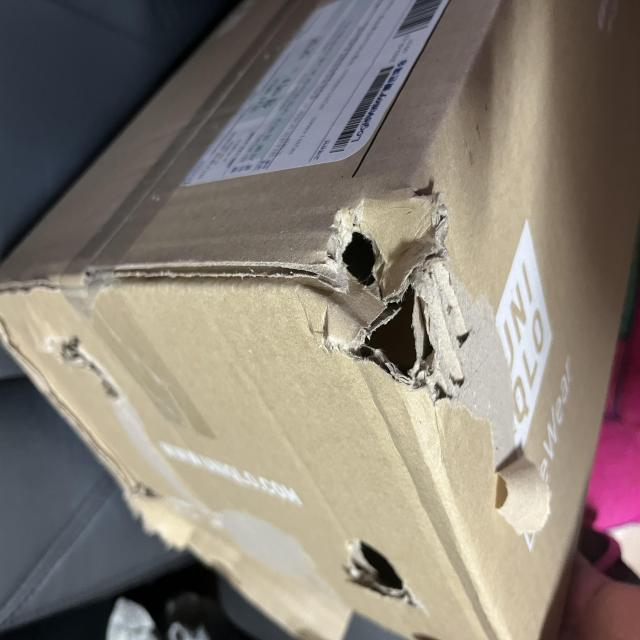damaged: (188, 444, 262, 578), (26, 464, 84, 547), (256, 453, 318, 516)
